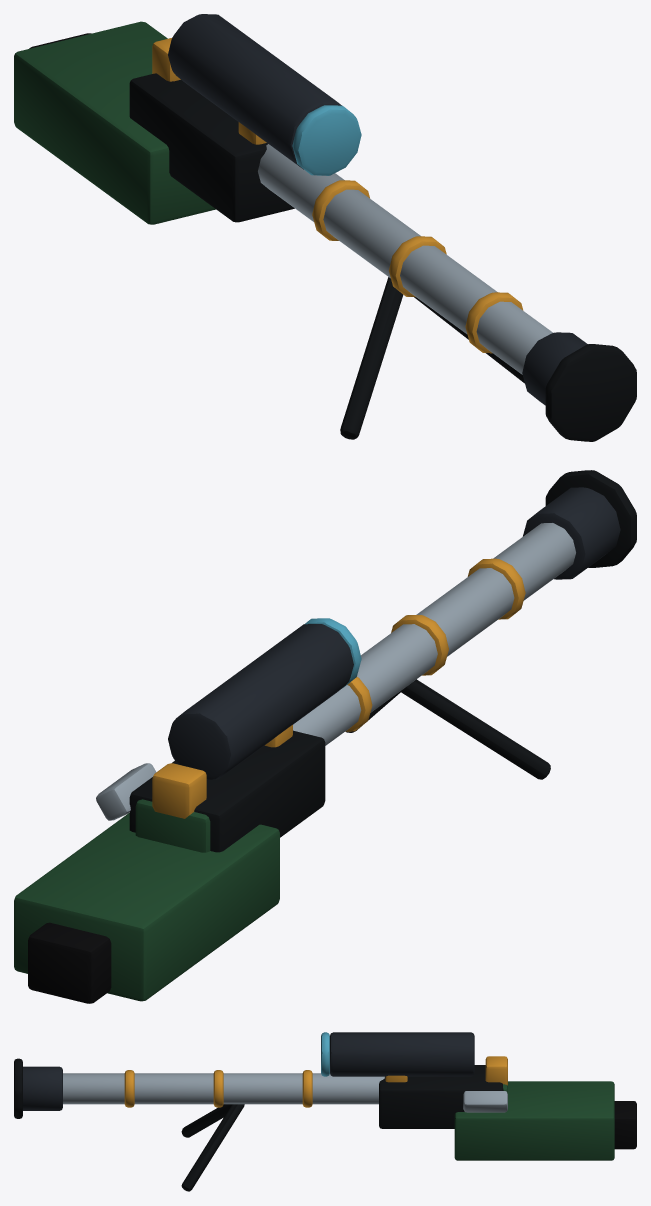
Rendered from SniperHead.obj.
3 views of the same model, one above another, from view 1: azimuth 30°, elevation 25°; view 2: azimuth 150°, elevation 25°; view 3: azimuth 270°, elevation 25° (orthographic). The views are drawn at different scales.
Visible parts, largest first — view 1: SniperHead; view 2: SniperHead; view 3: SniperHead.
Boxes of the visible parts, x1=… form: SniperHead: x1=14, y1=14, x2=636, y2=441; SniperHead: x1=14, y1=470, x2=636, y2=1003; SniperHead: x1=14, y1=1032, x2=636, y2=1191.
Size of the model in its own units: 0.6288 by 0.6422 by 2.8.
